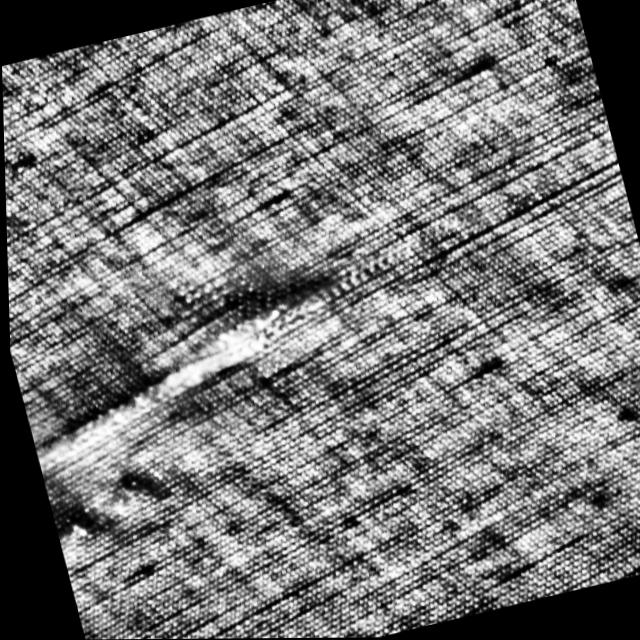Stitch: (6, 259, 387, 476)
